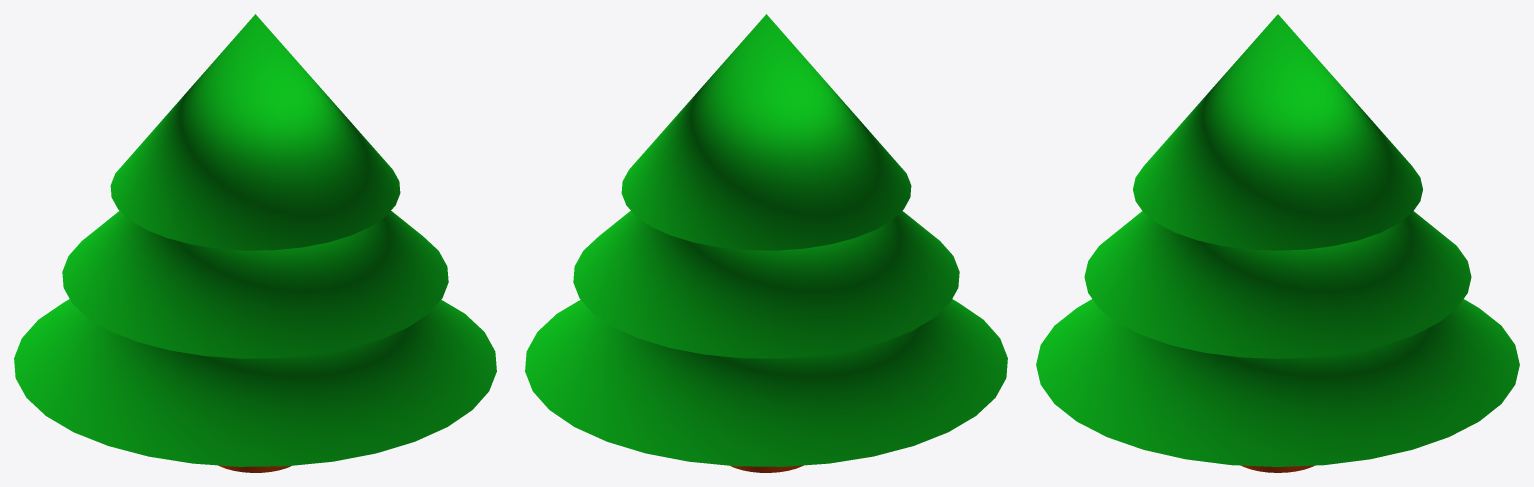
File: tree.fbx
3 renders of one model, left to right at view 1: azimuth 30°, elevation 25°; view 2: azimuth 150°, elevation 25°; view 3: azimuth 270°, elevation 25°, orthographic.
Parts seen in each view (by area): view 1: Cone.001, Cone, Cone.002; view 2: Cone.001, Cone, Cone.002; view 3: Cone.001, Cone, Cone.002.
Boxes of the visible parts, bbox=[...] form: Cone.001: bbox=[14, 299, 496, 466]; Cone: bbox=[110, 14, 400, 250]; Cone.002: bbox=[62, 211, 448, 358]; Cone.001: bbox=[525, 299, 1007, 466]; Cone: bbox=[621, 14, 911, 250]; Cone.002: bbox=[573, 211, 959, 358]; Cone.001: bbox=[1036, 299, 1519, 466]; Cone: bbox=[1133, 14, 1422, 250]; Cone.002: bbox=[1084, 211, 1471, 358].
Bounding box in the file's own units: 100 × 100 × 100.
